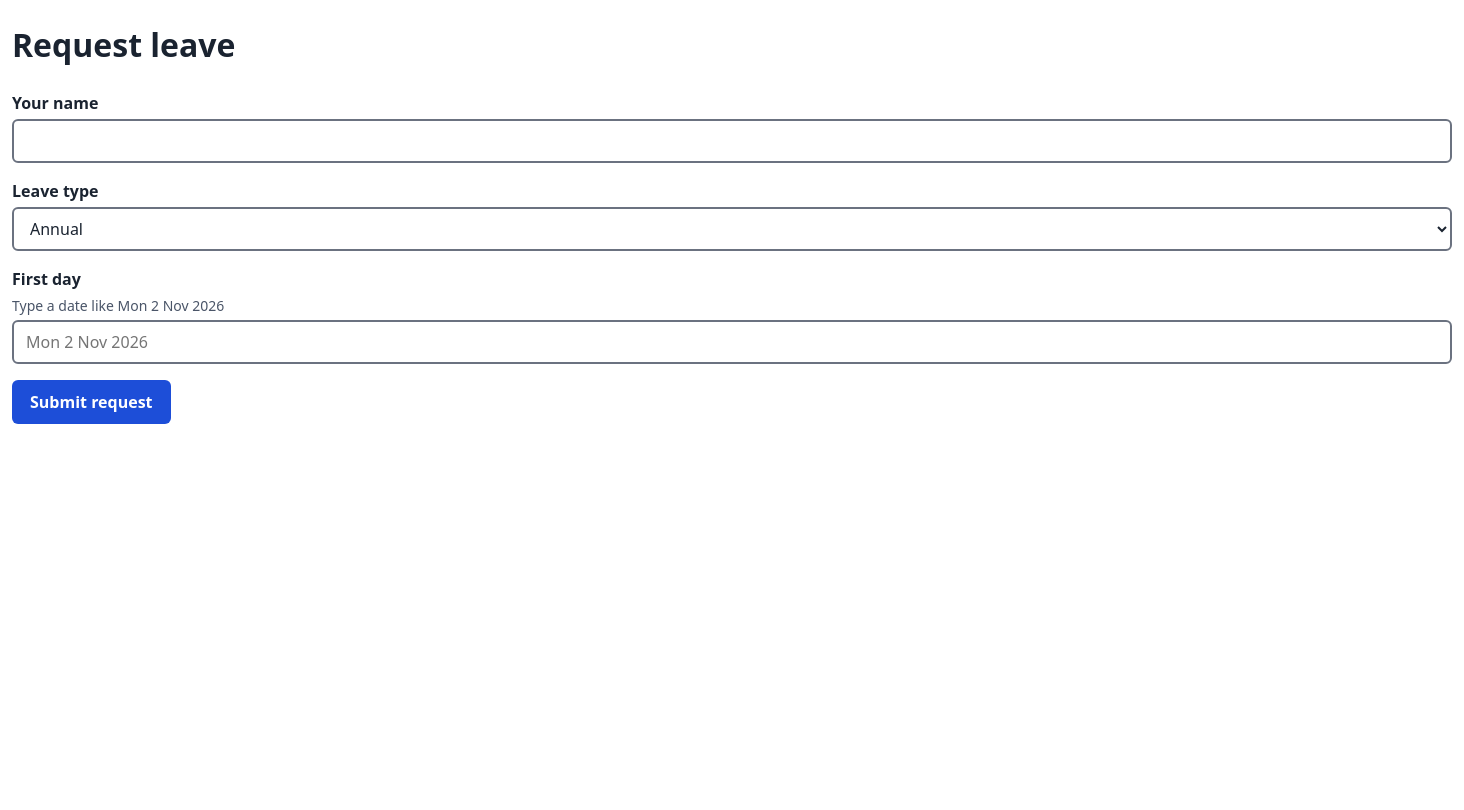
SampleForm (R31b, R31d) › keeps input, summarises errors and focuses the first invalid field
Type "Linh" into the field labelled "Your name" at {"x": 732, "y": 141}, box [12, 119, 1452, 163]
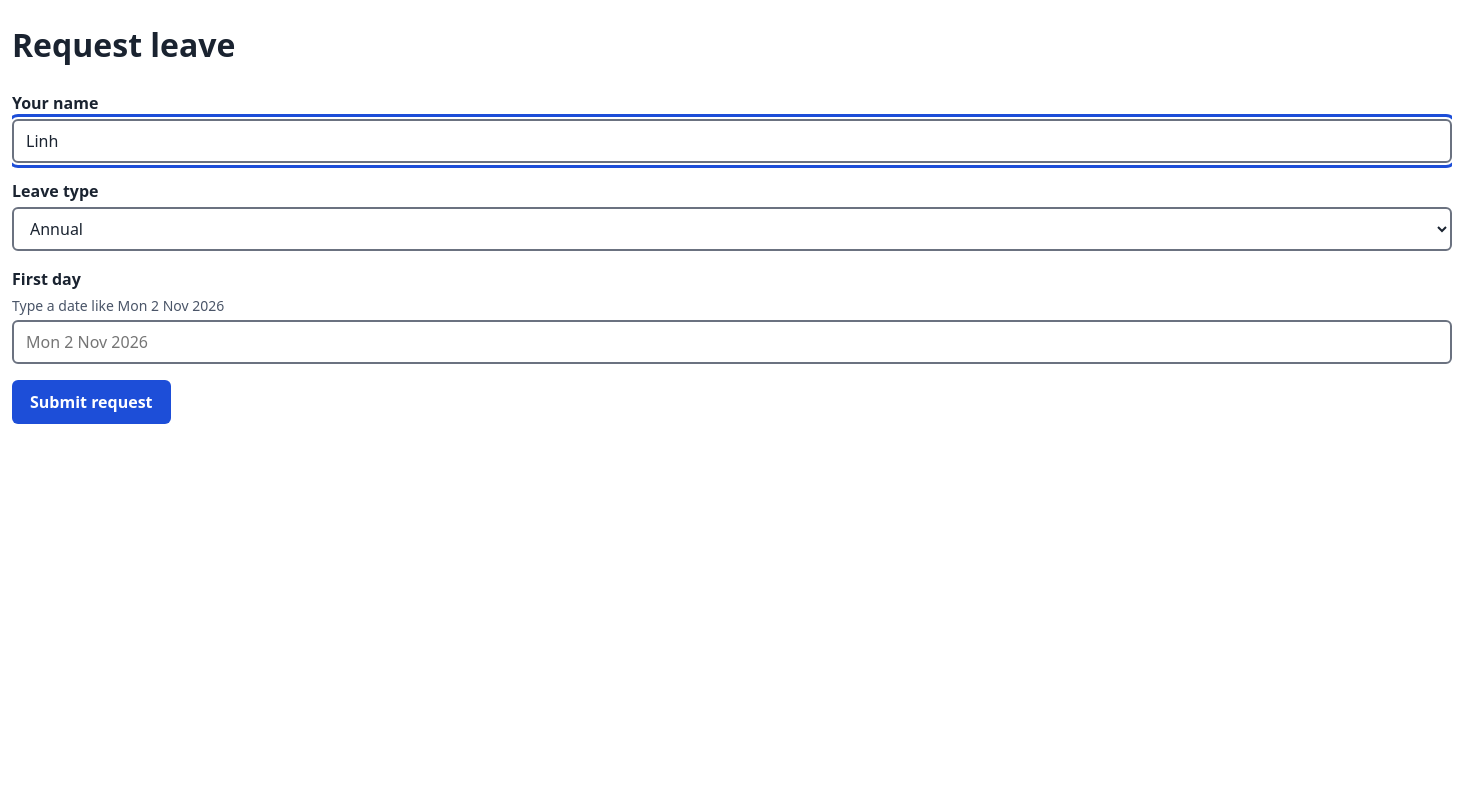
Clear the field labelled "Your name" at {"x": 732, "y": 141}, box [12, 119, 1452, 163]
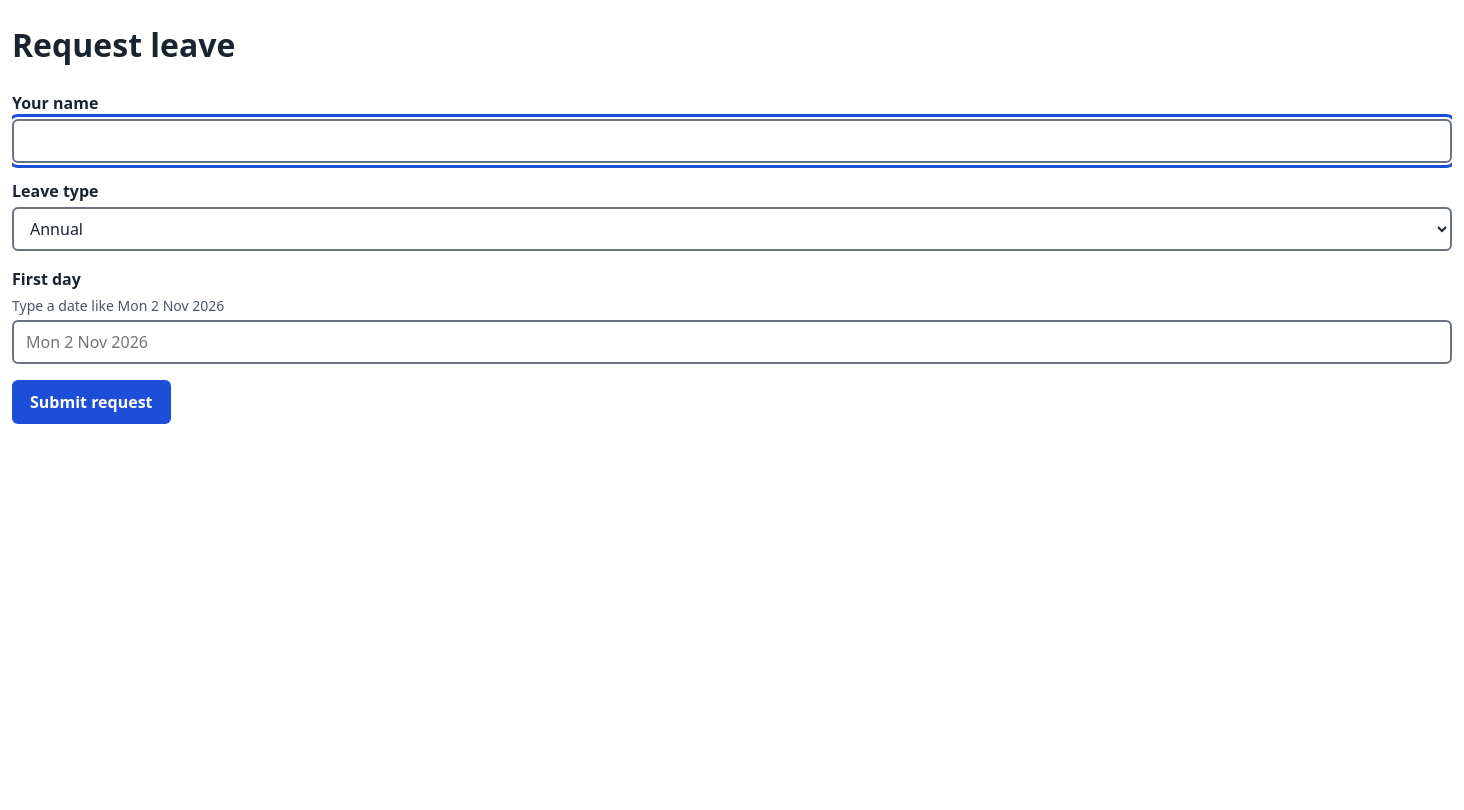
Click the button "Submit request" at {"x": 91, "y": 402}, box [12, 380, 170, 424]
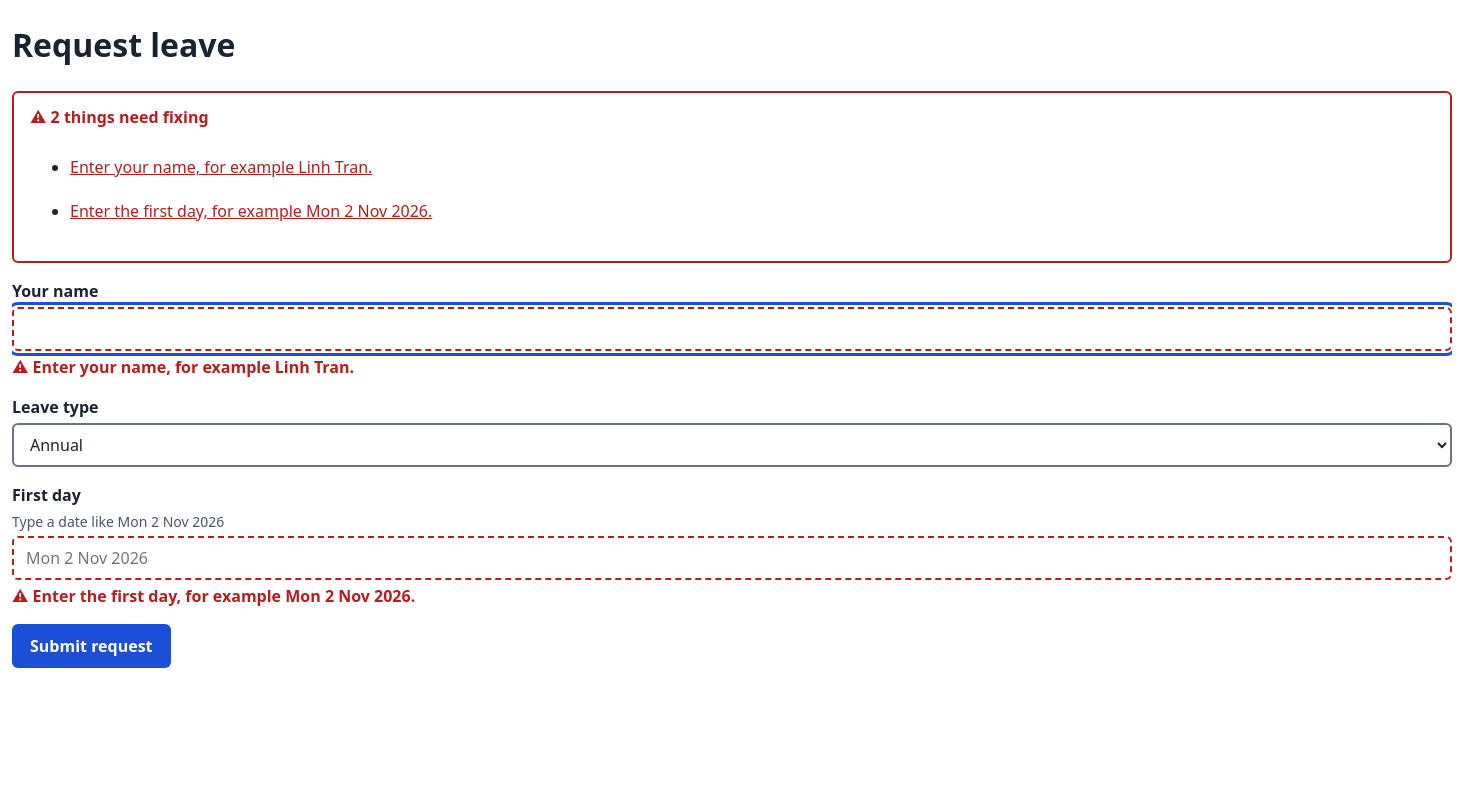
Expected: the message shows "2 things need fixing", [51, 106, 209, 128]
